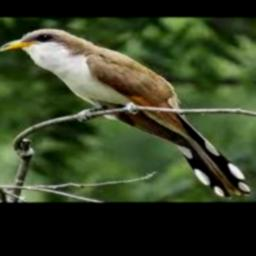Cuckoo: (1, 29, 252, 199)
